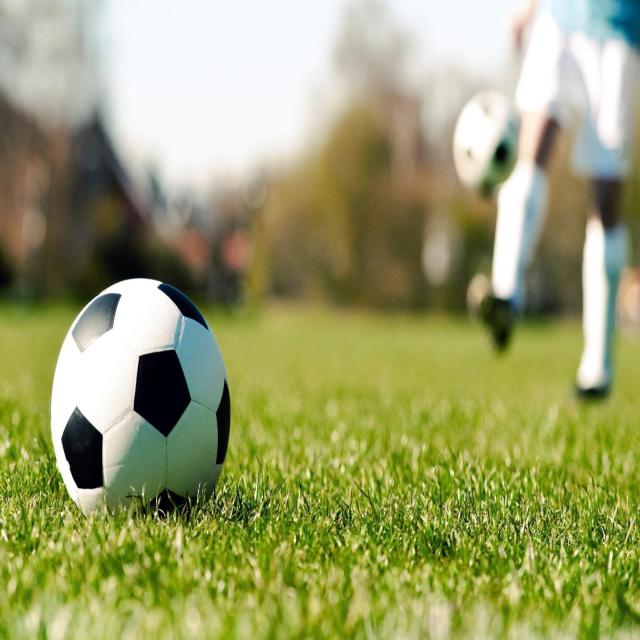football: (52, 278, 233, 514)
